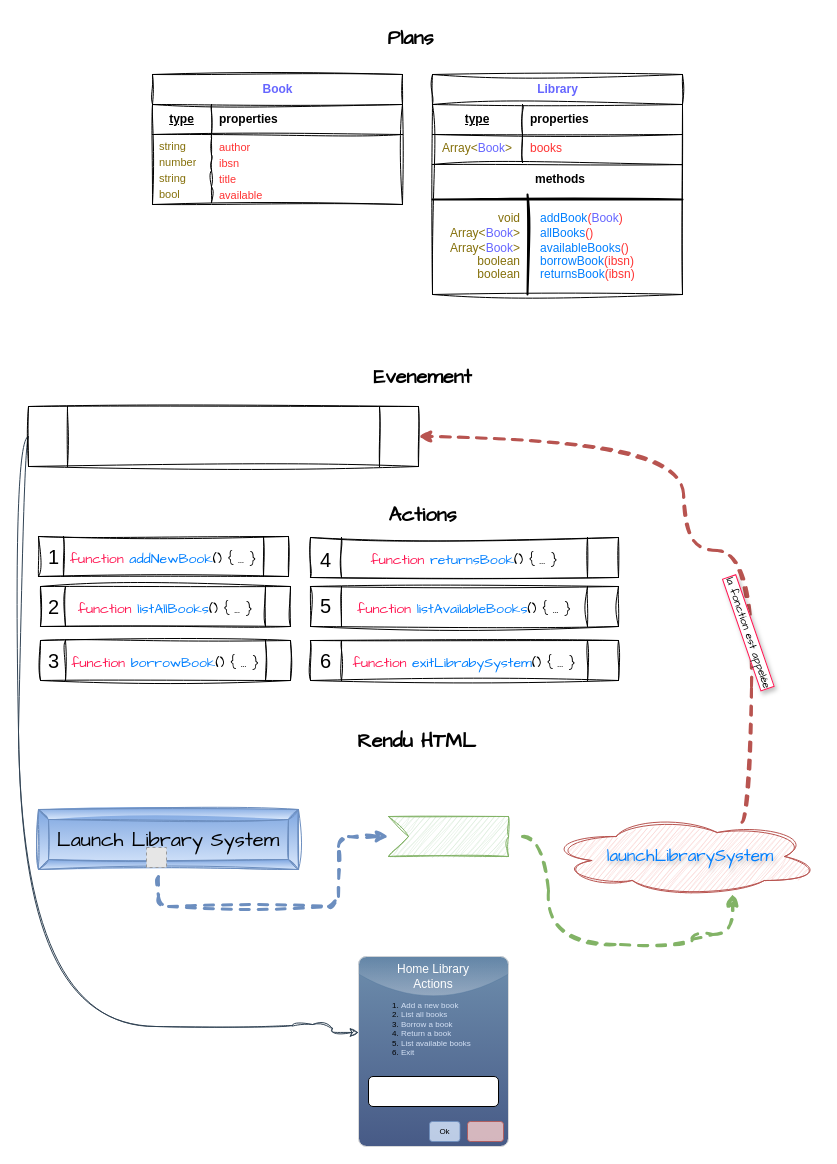
Some shapes in this 837 by 1164 pixel diagram are drawn without their labels. Grey dashed boxes stand in for pictures. Each missing label, with the centre of its shape:
"Annuler" goes at point 485,1131.
"Enter your Choice" goes at point 433,1091.
"function launchLibrarySystem ( Event ) { ... }" goes at point 223,436.
"onclick event" goes at point 448,836.
